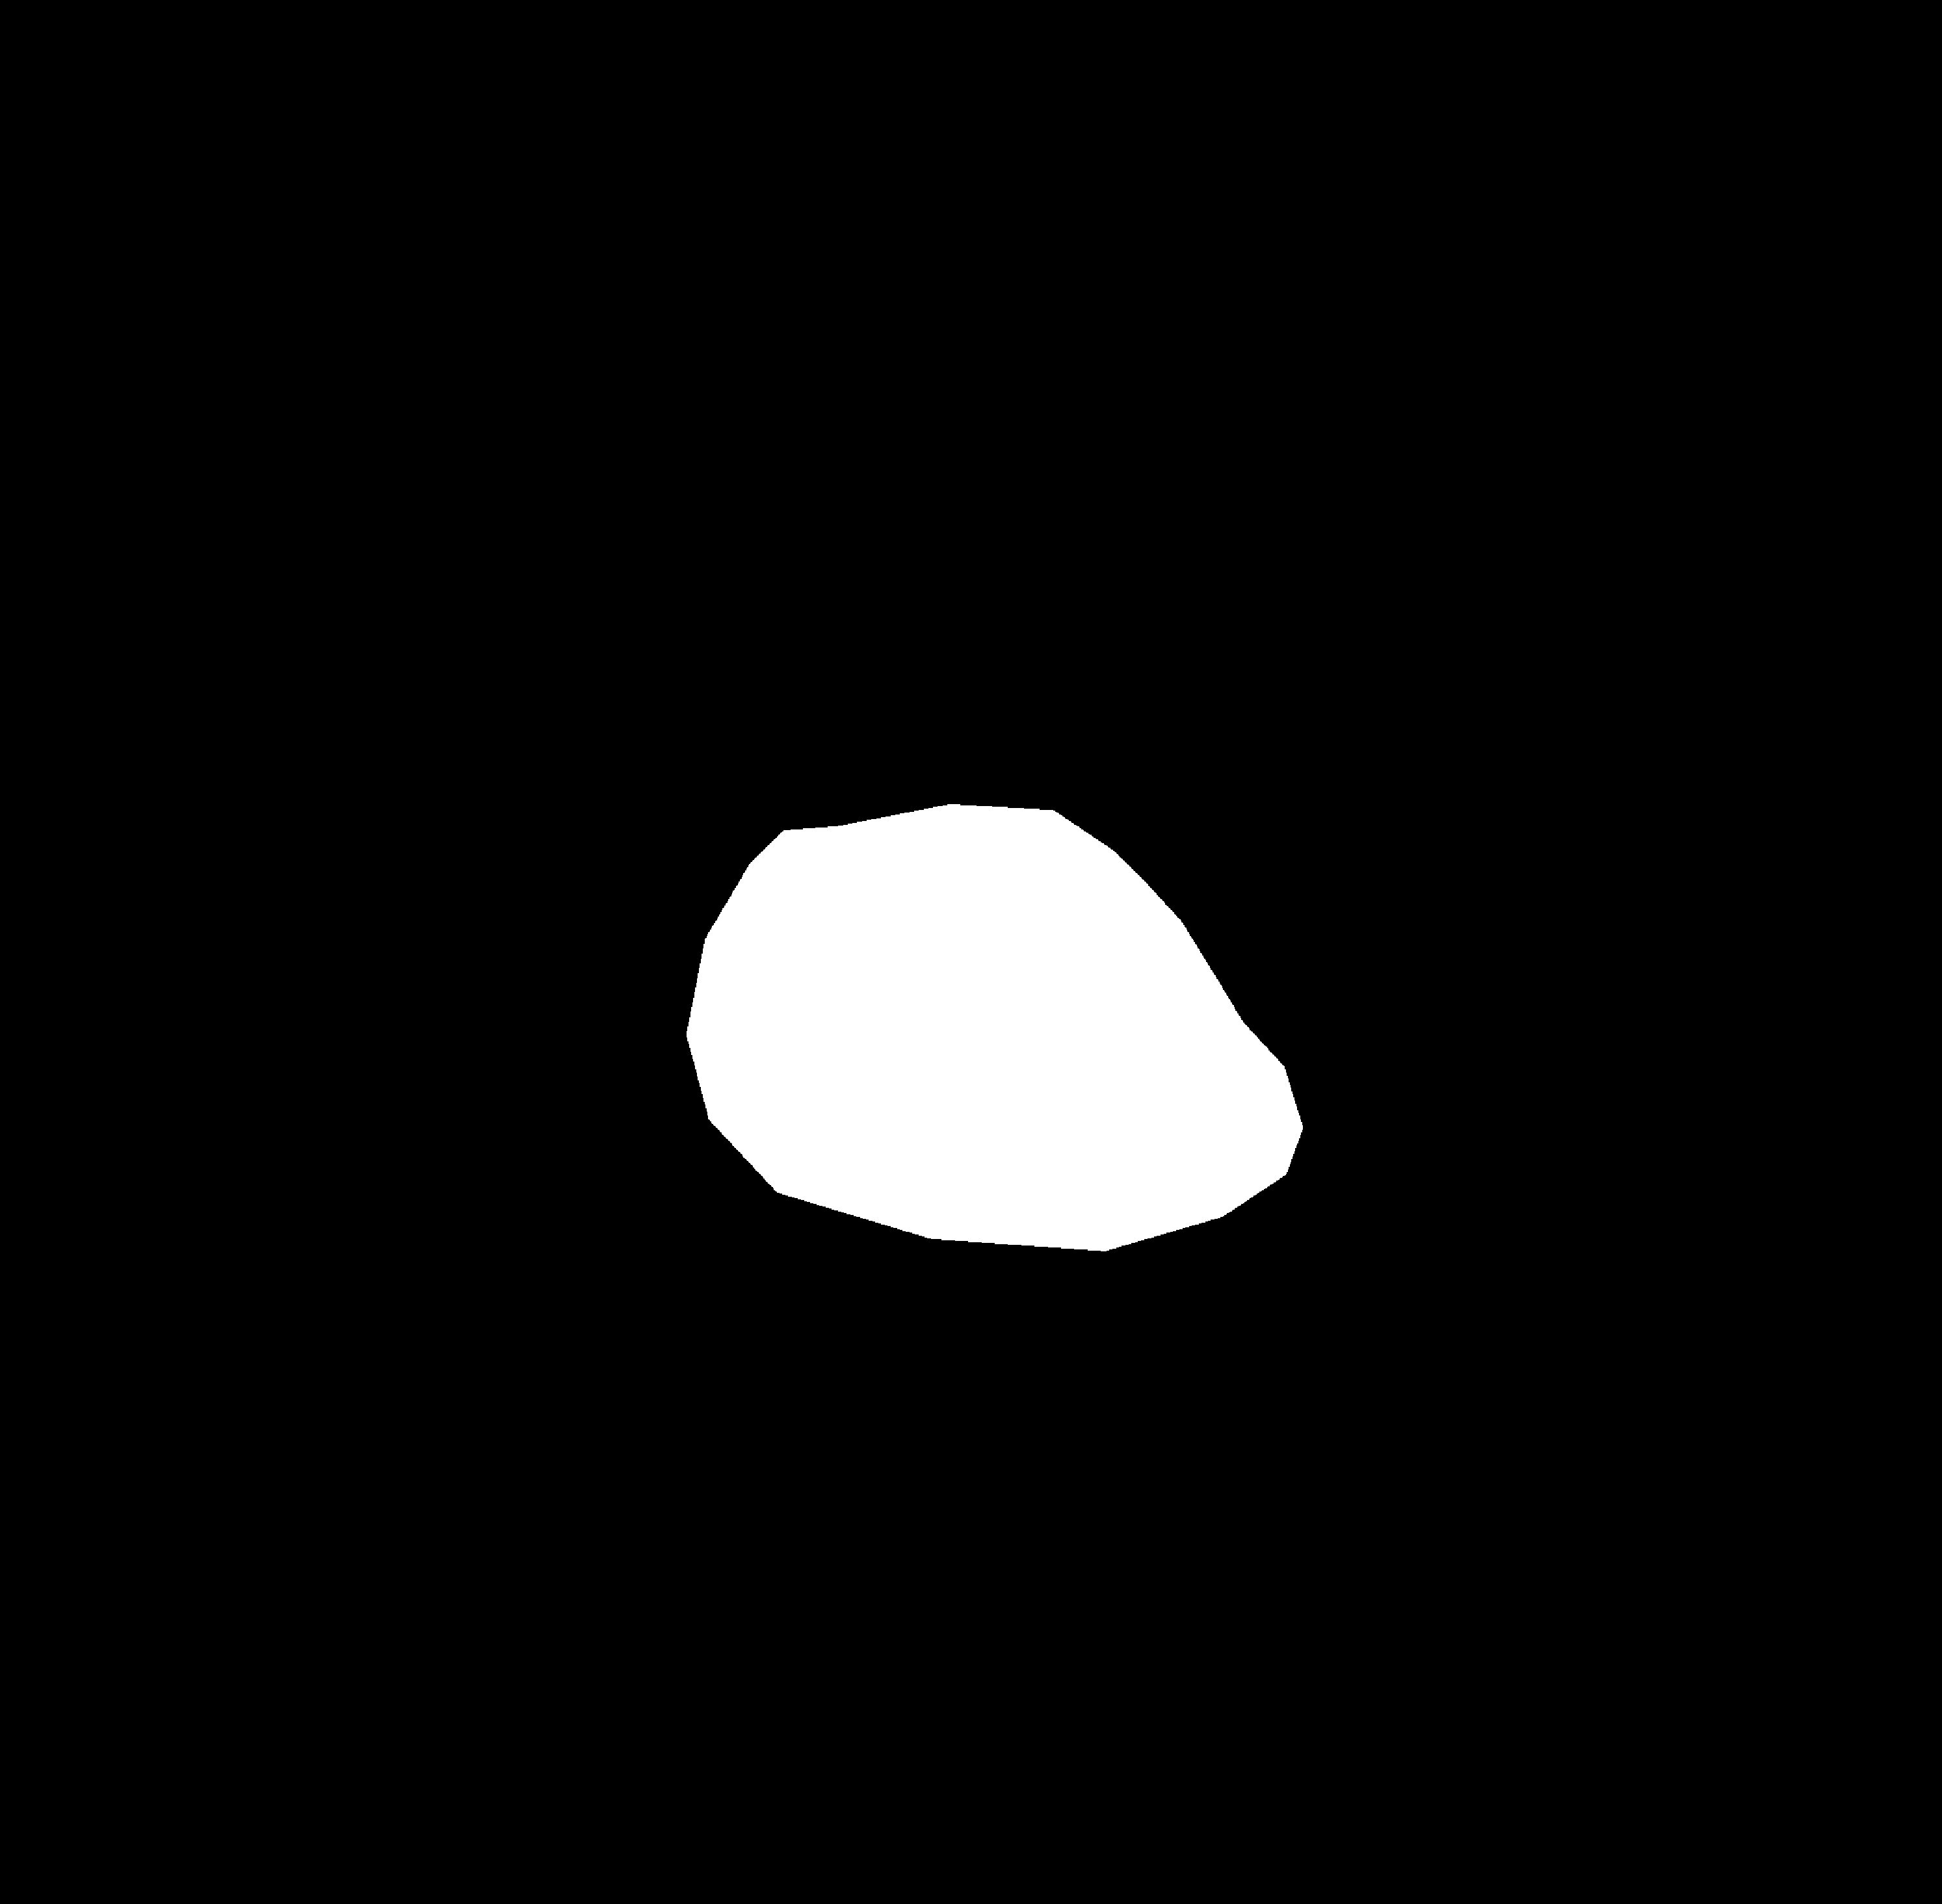heart: (678, 825, 1307, 1234)
left_lung: (295, 221, 842, 1370)
right_lung: (931, 263, 1407, 1207)
